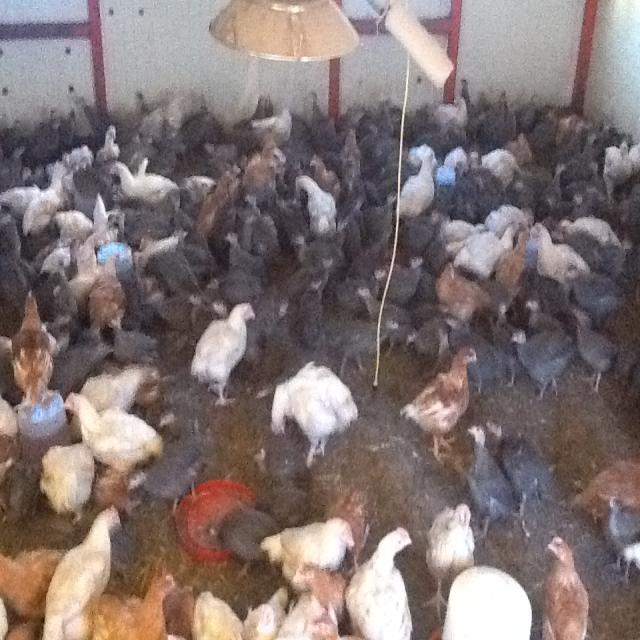poussin: (42, 503, 122, 636), (276, 355, 358, 463), (68, 386, 164, 478), (353, 519, 422, 640), (194, 296, 252, 424), (492, 409, 553, 530), (256, 522, 356, 594), (416, 339, 478, 447), (464, 415, 513, 542), (572, 439, 640, 528), (72, 362, 152, 437), (126, 450, 216, 516), (0, 540, 69, 622), (37, 428, 100, 514), (506, 322, 574, 400), (96, 576, 178, 640), (526, 214, 590, 292), (424, 509, 478, 601), (216, 487, 270, 578), (446, 313, 509, 387), (546, 529, 587, 640), (16, 291, 54, 410), (332, 314, 403, 370), (51, 334, 110, 400), (295, 169, 339, 254), (573, 314, 619, 393), (566, 225, 628, 282), (448, 160, 506, 220), (604, 496, 640, 592), (492, 228, 546, 292), (570, 268, 628, 326), (392, 154, 442, 218), (221, 232, 276, 290), (264, 452, 310, 520), (104, 155, 168, 203), (458, 225, 514, 279), (94, 459, 144, 519), (140, 274, 194, 329), (2, 452, 40, 530), (86, 270, 138, 326), (274, 599, 345, 640), (358, 285, 414, 336), (22, 177, 68, 239), (110, 314, 160, 371), (0, 212, 35, 290), (195, 174, 239, 235), (190, 593, 247, 640), (295, 562, 347, 613), (243, 578, 285, 640), (258, 299, 296, 367), (440, 263, 486, 318), (238, 138, 278, 200), (560, 208, 622, 248), (68, 88, 121, 134), (387, 247, 425, 310), (242, 195, 282, 254), (289, 228, 342, 272), (284, 254, 334, 299), (359, 118, 397, 176), (338, 486, 366, 564), (300, 274, 328, 352), (344, 260, 392, 305), (470, 148, 520, 191), (258, 108, 302, 156), (183, 236, 227, 284), (134, 223, 183, 266), (29, 108, 63, 168), (370, 180, 402, 243), (206, 269, 267, 302), (89, 190, 130, 238), (428, 96, 476, 137), (404, 316, 448, 360), (308, 132, 338, 192), (334, 130, 364, 190), (409, 104, 442, 156), (1, 172, 46, 210), (76, 242, 105, 300), (134, 201, 188, 232), (604, 142, 632, 200), (544, 153, 566, 226), (38, 240, 76, 282), (526, 294, 554, 350), (486, 296, 512, 355), (0, 426, 29, 478), (1, 107, 29, 160), (166, 95, 205, 132), (546, 102, 582, 142), (440, 146, 474, 188), (202, 137, 240, 172), (372, 92, 406, 131), (60, 202, 90, 246), (98, 242, 126, 288), (58, 140, 98, 172), (572, 183, 605, 221), (338, 203, 361, 257), (335, 98, 372, 130), (134, 108, 173, 138), (125, 86, 159, 120), (304, 93, 334, 131), (95, 128, 128, 162), (181, 108, 223, 134), (584, 122, 618, 154), (246, 92, 278, 126), (502, 132, 534, 166), (189, 286, 217, 324), (454, 74, 478, 116), (140, 144, 176, 172), (178, 166, 210, 197), (0, 399, 25, 438), (586, 154, 610, 194), (520, 88, 542, 130), (232, 100, 264, 128), (172, 128, 198, 162), (619, 137, 640, 178), (492, 80, 510, 126), (210, 289, 237, 317), (406, 145, 437, 168), (502, 98, 518, 140), (108, 214, 130, 244)
